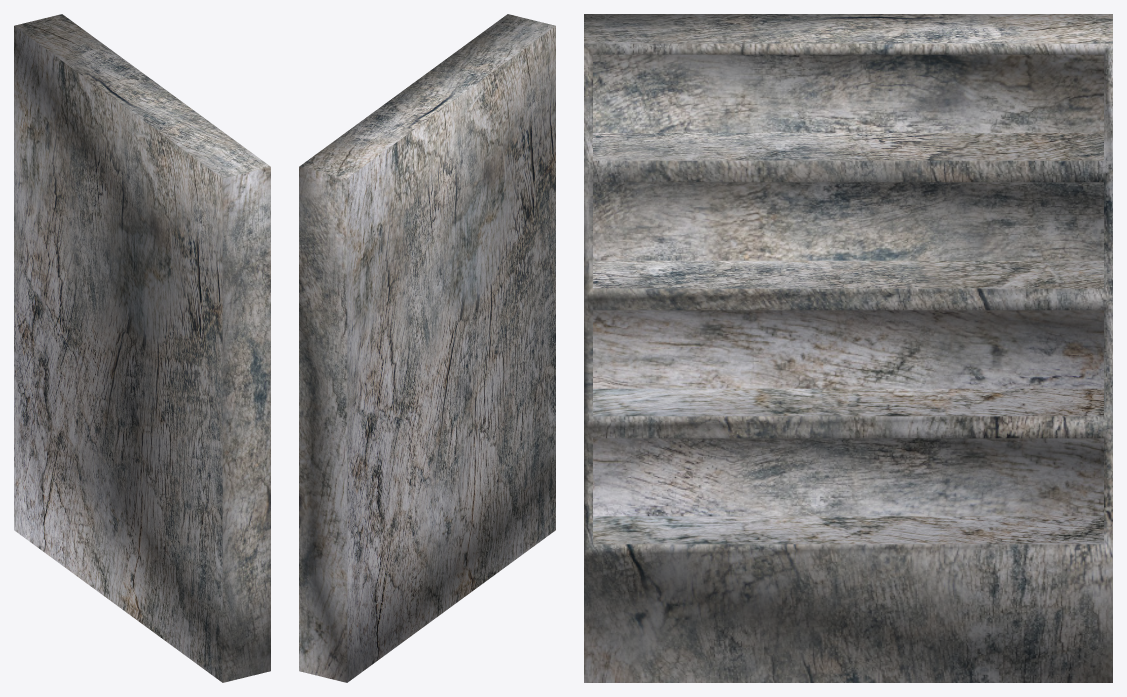
File: Estanteria2.fbx
3 renders of one model, left to right at view 1: azimuth 30°, elevation 25°; view 2: azimuth 150°, elevation 25°; view 3: azimuth 270°, elevation 25°, orthographic. The views are drawn at different scales.
Visible parts, largest first — view 1: Cube; view 2: Cube; view 3: Cube.
Part boxes in pixels (x1,y1,x2,y2): Cube: (14, 14, 270, 682); Cube: (299, 14, 555, 682); Cube: (584, 14, 1112, 682).
Size of the model in its own units: 40 by 400 by 300.
1 material, 1 textured.
